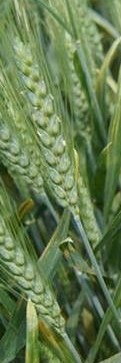Healthy Wheat: (10, 33, 83, 213)
